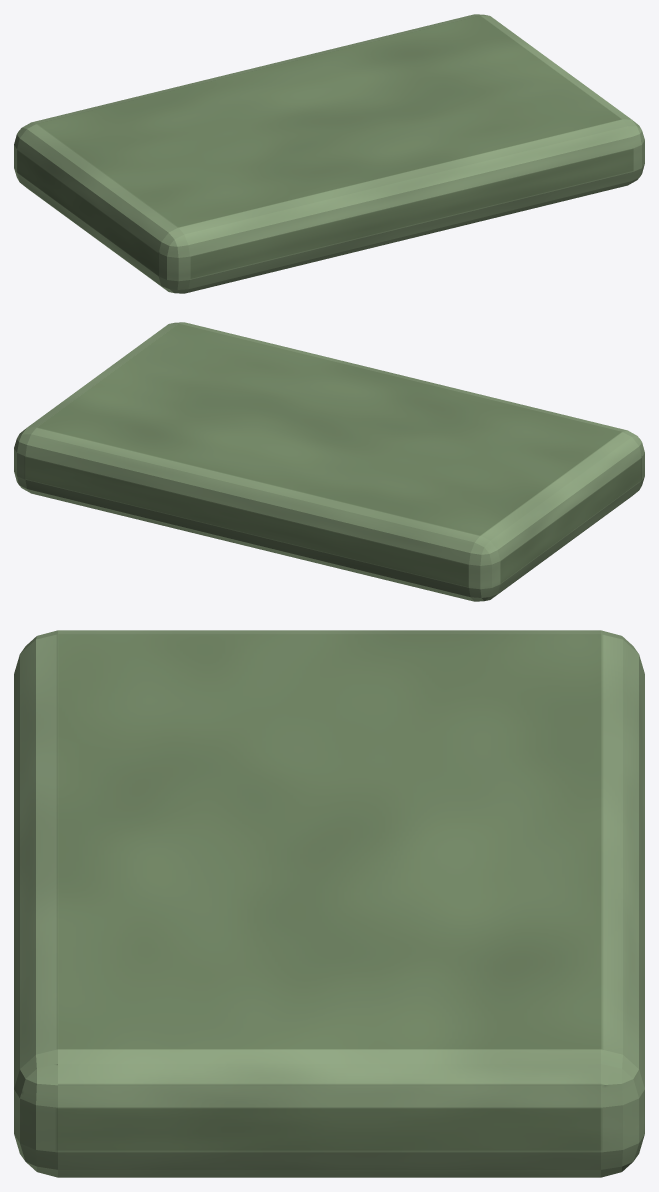
File: 09_Seat_Cushion_3.fbx
The picture shows the model from 3 angles, top to bottom: view 1: azimuth 30°, elevation 25°; view 2: azimuth 150°, elevation 25°; view 3: azimuth 270°, elevation 25°; orthographic projection. The views are drawn at different scales.
Visible parts, largest first — view 1: 09_Seat_Cushion_3; view 2: 09_Seat_Cushion_3; view 3: 09_Seat_Cushion_3.
Part boxes in pixels (x1=…): 09_Seat_Cushion_3: x1=14, y1=14, x2=644, y2=293; 09_Seat_Cushion_3: x1=14, y1=322, x2=644, y2=601; 09_Seat_Cushion_3: x1=14, y1=630, x2=644, y2=1177.
Size of the model in its own units: 117 by 15 by 69.
1 material, 1 textured.
